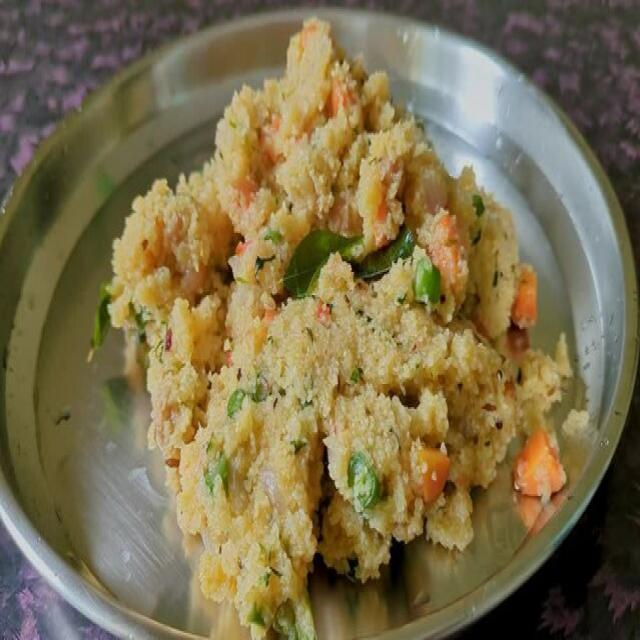UPMA: (109, 23, 571, 638)
